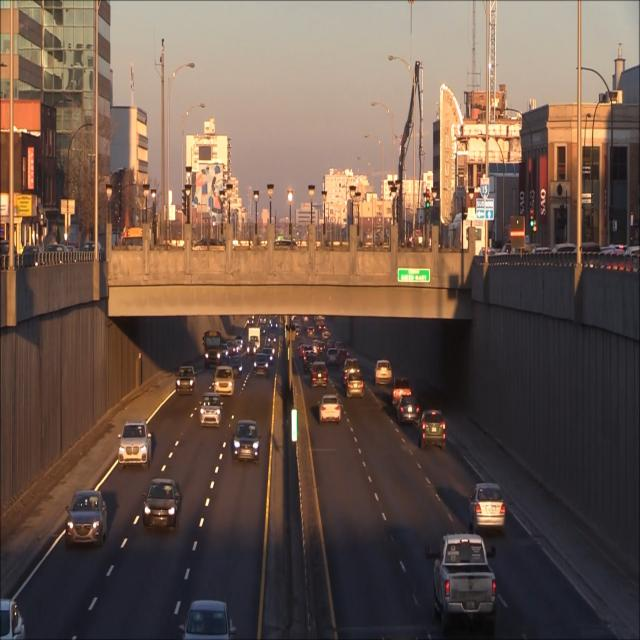Car: (428, 534, 498, 626), (65, 491, 107, 554), (142, 478, 181, 533), (468, 482, 509, 532), (118, 422, 153, 468), (232, 418, 260, 465), (418, 412, 448, 451), (317, 392, 343, 426), (203, 330, 224, 368), (200, 392, 222, 428), (396, 395, 420, 425), (390, 377, 412, 408), (215, 366, 235, 396), (176, 366, 197, 394), (374, 359, 393, 388), (311, 362, 330, 389), (346, 374, 366, 399), (342, 358, 361, 384), (254, 354, 270, 378)
